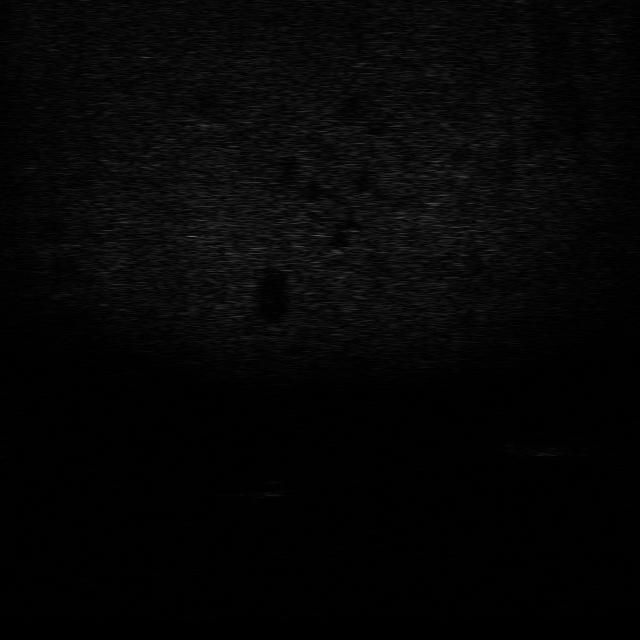ball: (248, 476, 292, 498)
human body: (495, 435, 593, 459)
